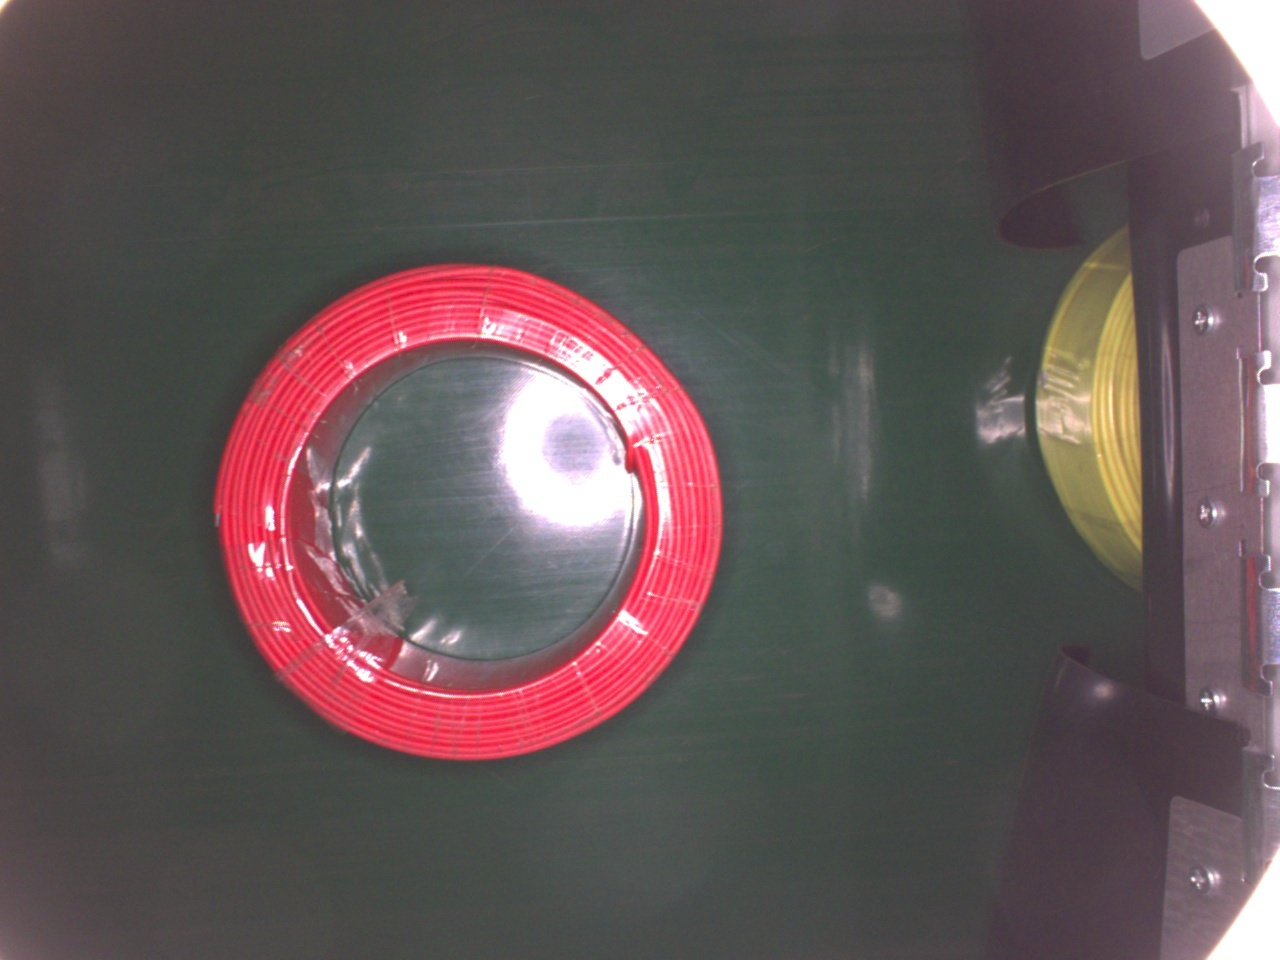red: (211, 259, 731, 768)
yellow: (1036, 227, 1149, 601)
